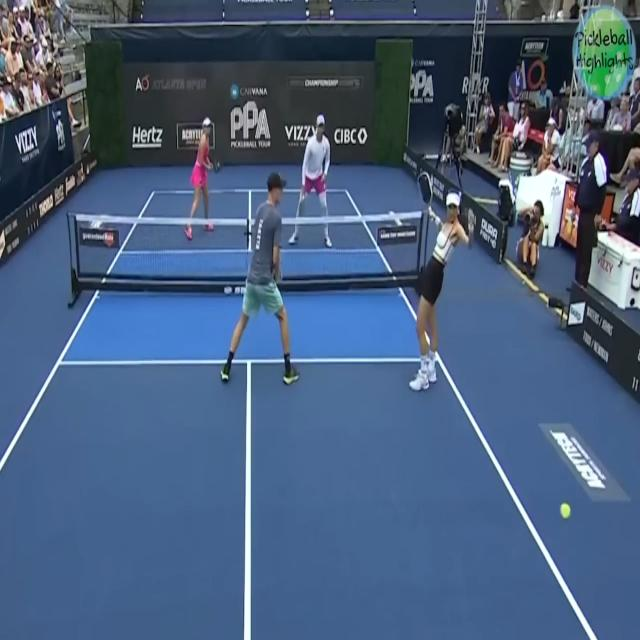Pickleball: (560, 500, 570, 521)
